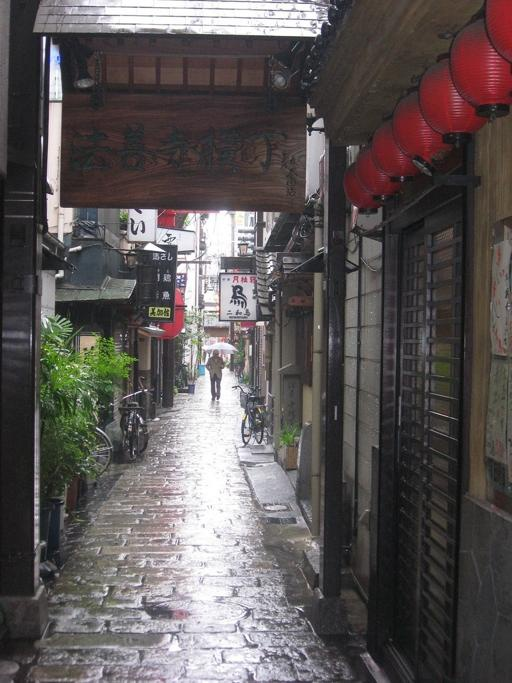non-vehicle: (231, 383, 267, 443), (118, 399, 149, 460)
